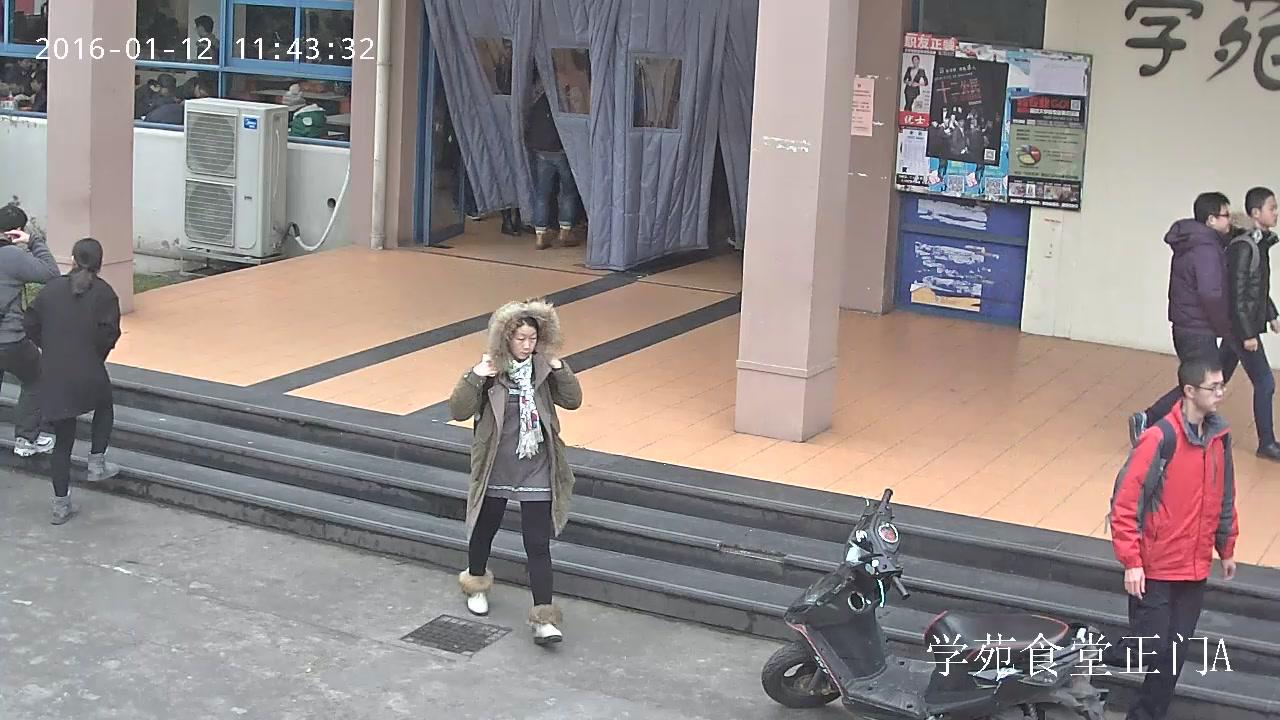person: (1091, 344, 1240, 720), (448, 296, 582, 644), (1128, 191, 1244, 448), (20, 237, 121, 527), (1221, 186, 1280, 460), (0, 202, 62, 456), (524, 74, 584, 250), (194, 14, 230, 109), (279, 80, 328, 139), (132, 73, 176, 120), (903, 53, 929, 112), (143, 94, 186, 126), (176, 76, 215, 108), (29, 69, 48, 115)
